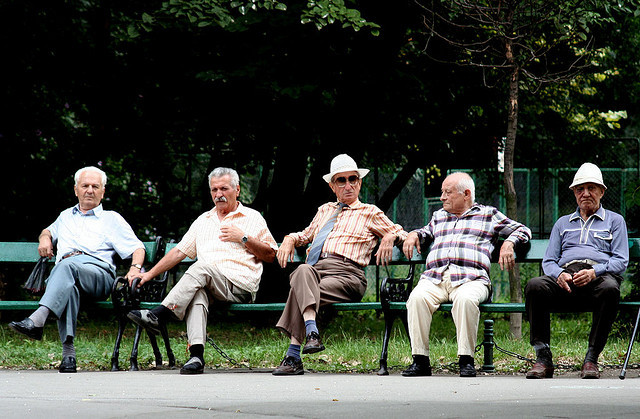Person: (260, 146, 407, 388), (132, 152, 278, 370), (11, 145, 151, 366), (398, 167, 529, 385), (520, 154, 626, 378)
